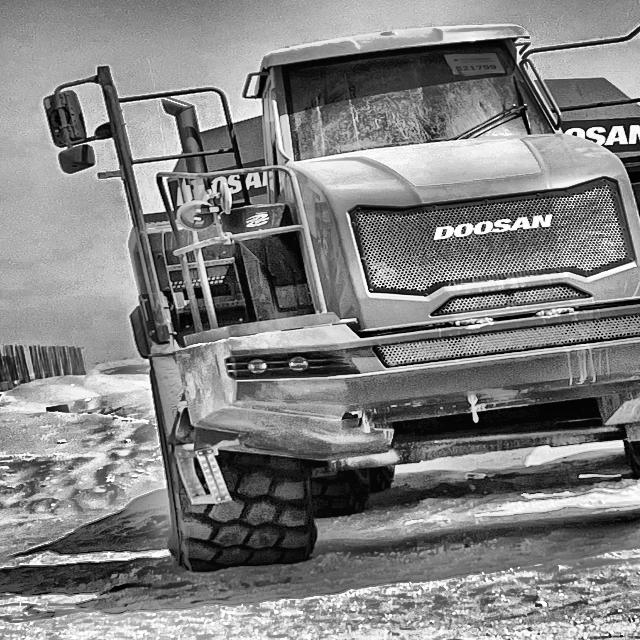dump_truck: (39, 0, 640, 586)
